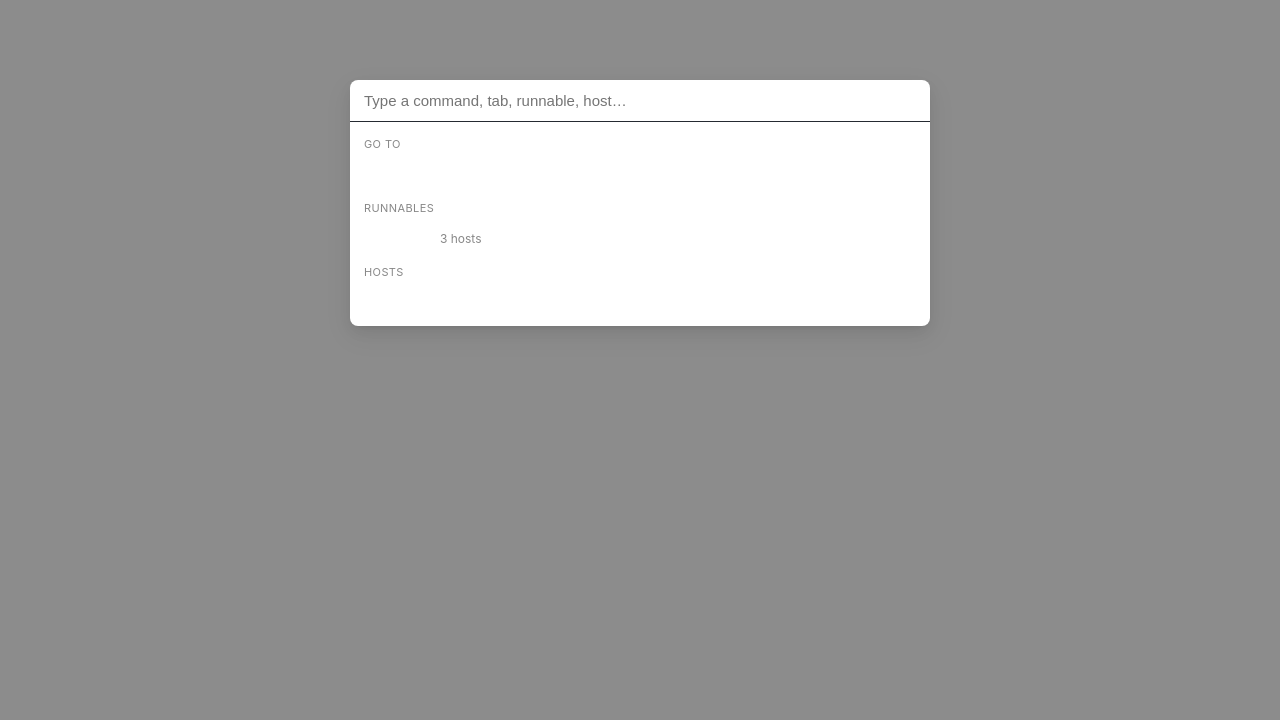
CommandPalette › filters by label as you type
Type "disk" into the dropdown with placeholder "Type a command, tab, runnable, host…" at (640, 101), box [350,80,930,122]
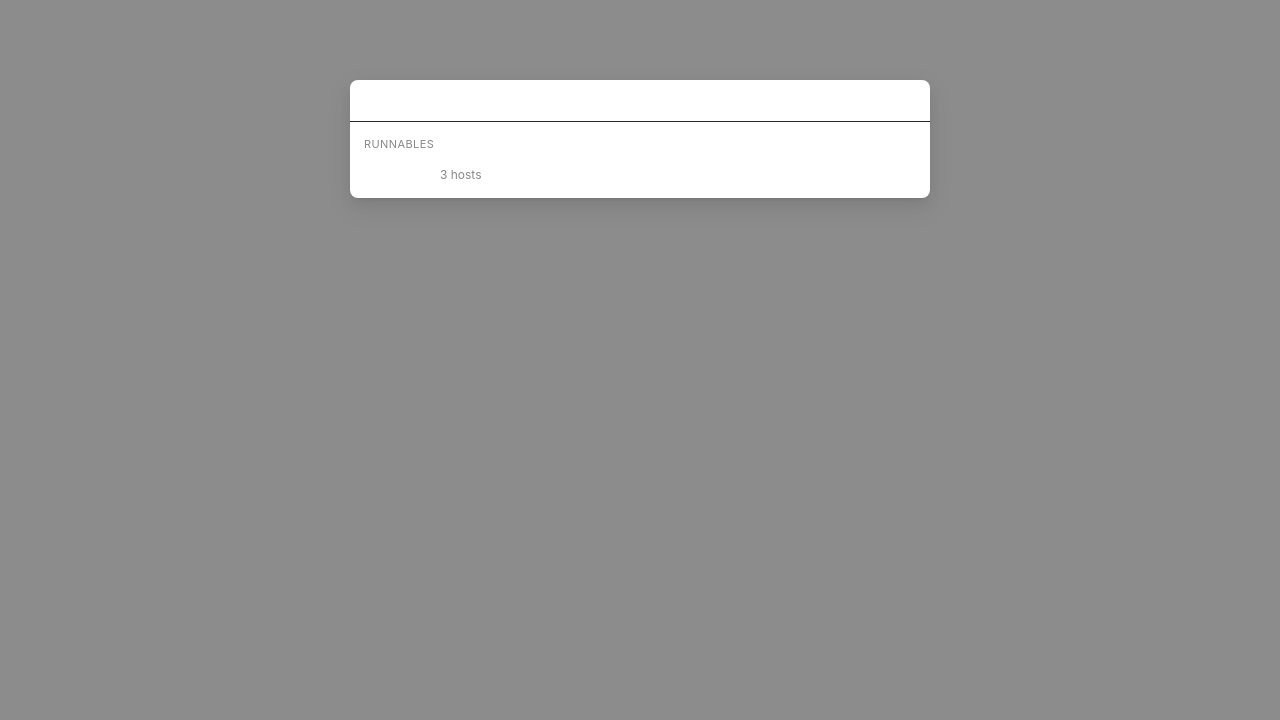
Now the option "web-01" is gone
